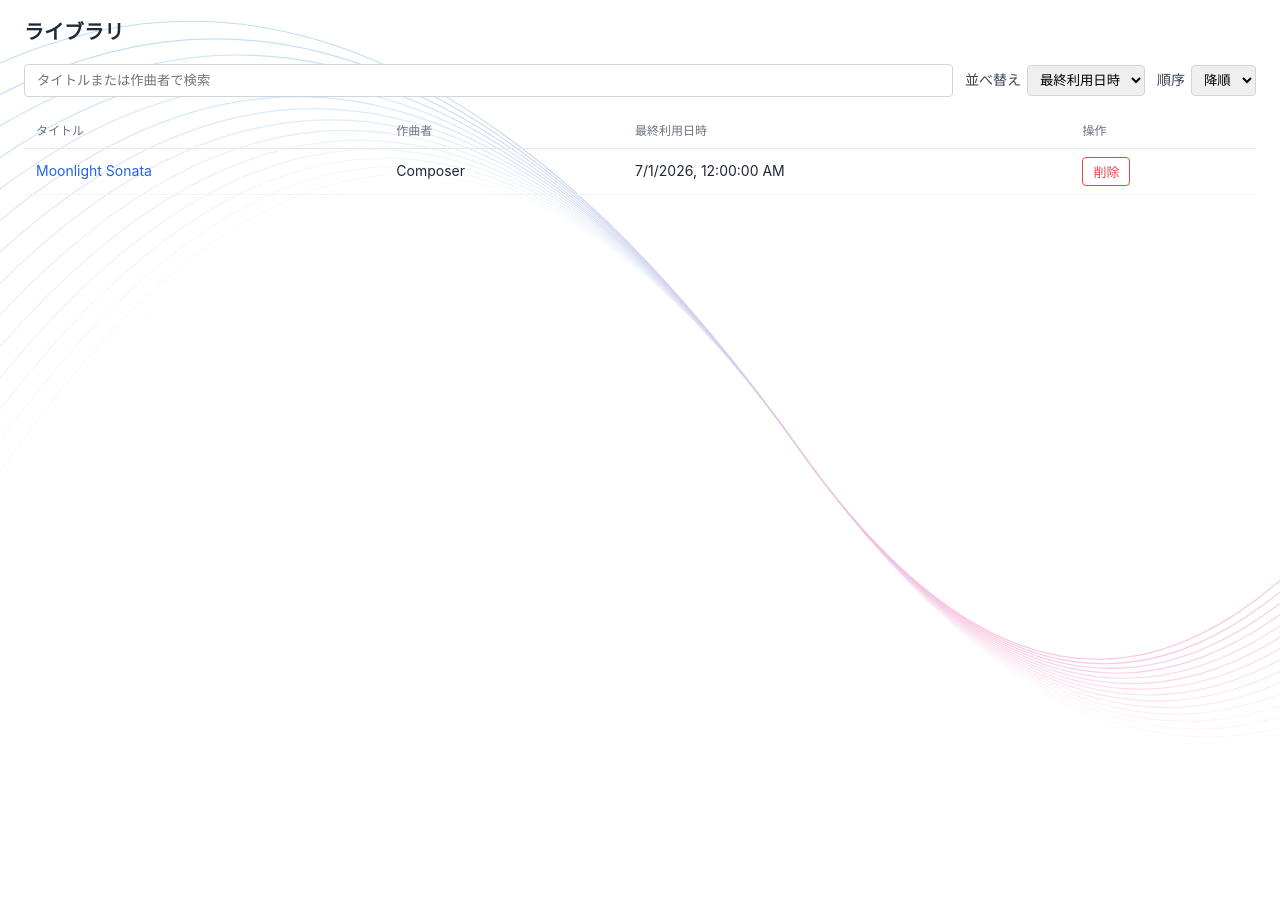
Test: LibraryView › removes the entry after the delete flow is confirmed via the in-app confirmation UI (REQ-017-006)
Expected: the button "Moonlight Sonata" is shown, [36,160,152,183]
What coordinates should you click on to do the following:
click the button with aria-label "Moonlight Sonata をライブラリから削除"
I would click on:
 (1106, 172)
Its box is [1082,157,1130,186].
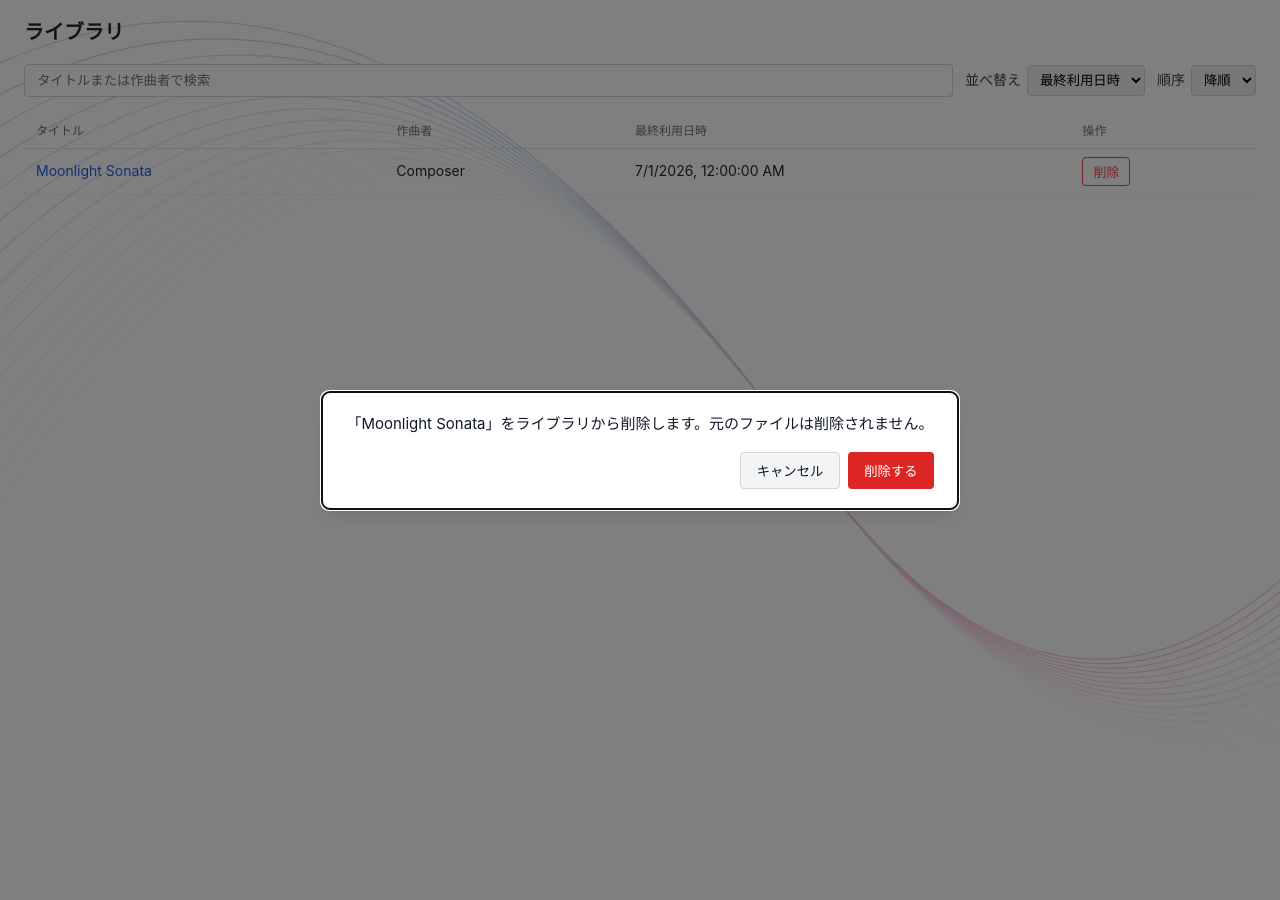
Now the text "「Moonlight Sonata」をライブラリから削除します。元のファイルは削除されません。" is shown, box [346,412,934,436]
What coordinates should you click on to do the following:
click the button "削除する"
I would click on:
 (891, 470)
Its box is [848,452,934,488].
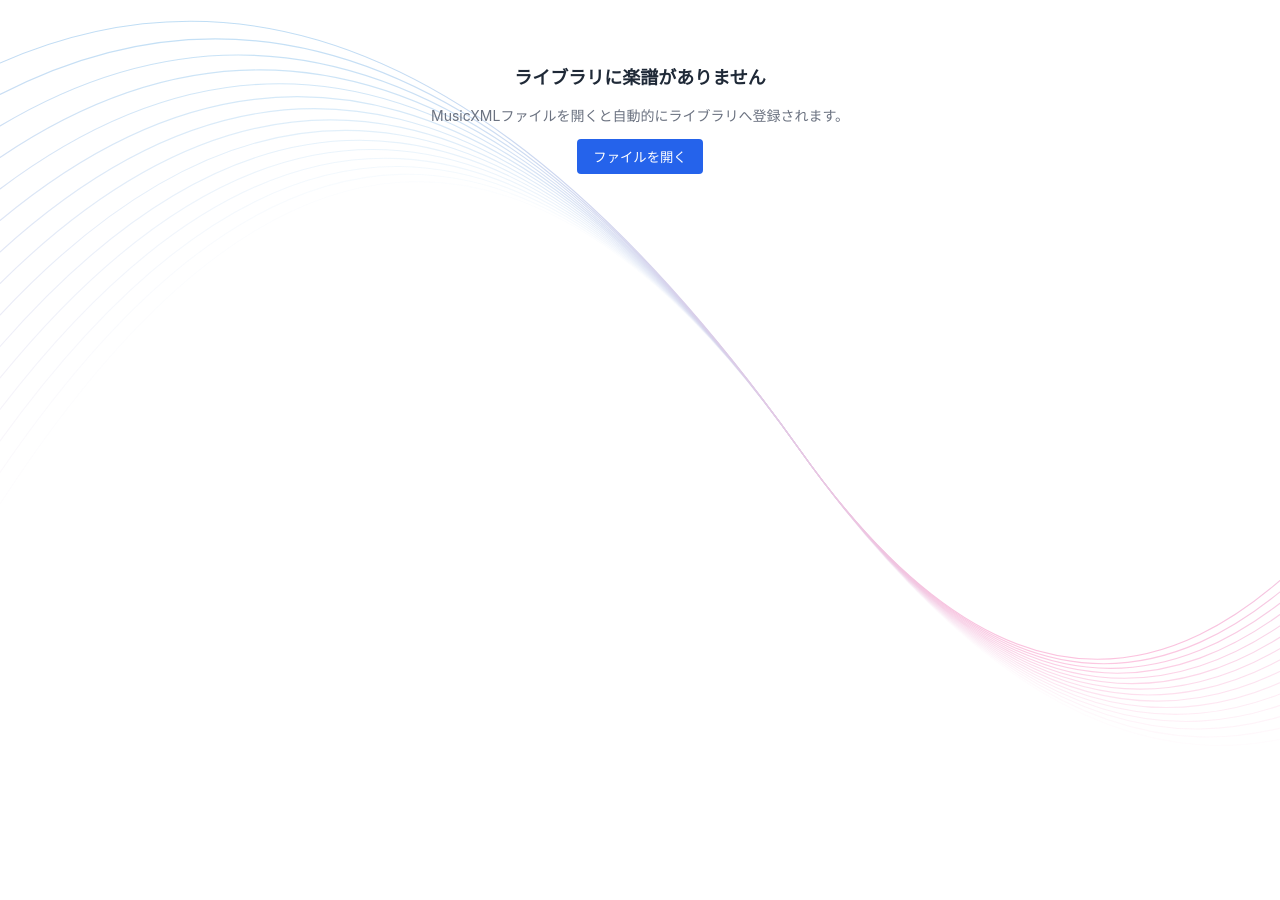
Now the button "Moonlight Sonata" is gone
